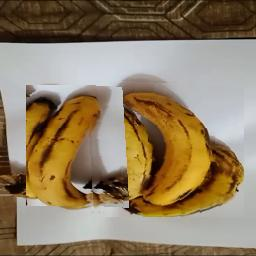Banana Semifresh: (87, 79, 245, 217), (26, 85, 123, 206)
